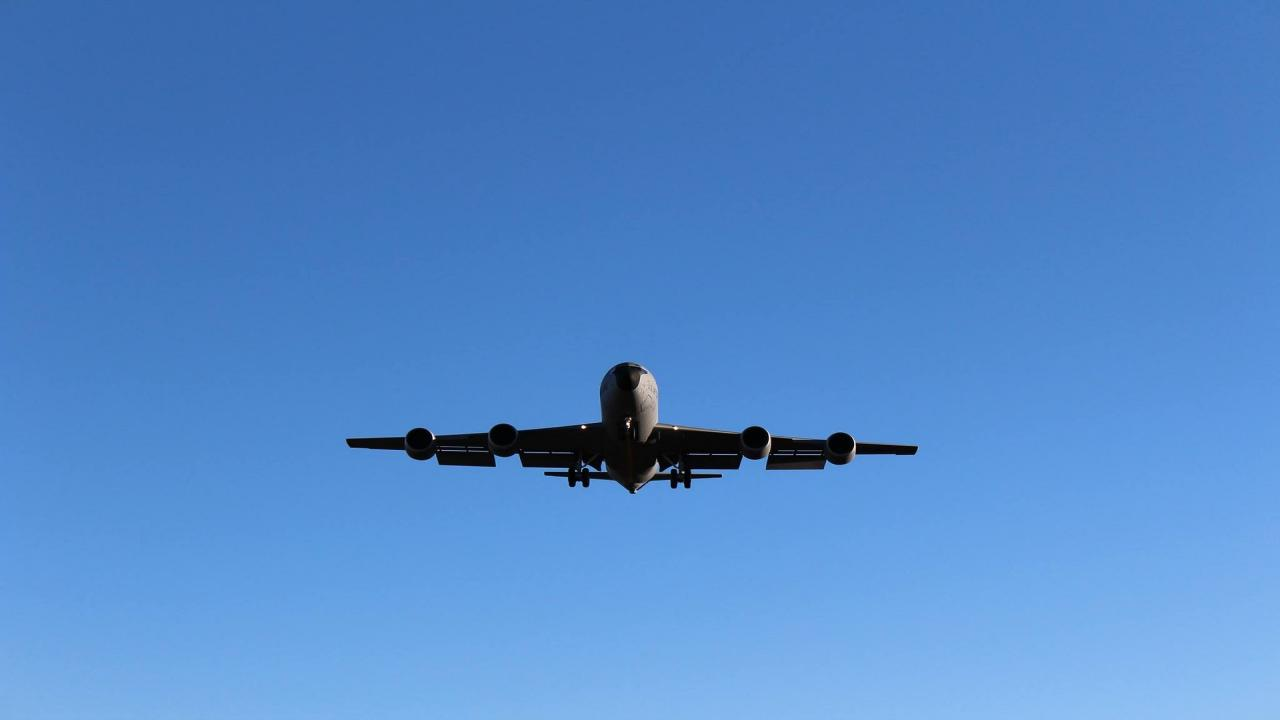Airplane: (334, 353, 929, 509)
